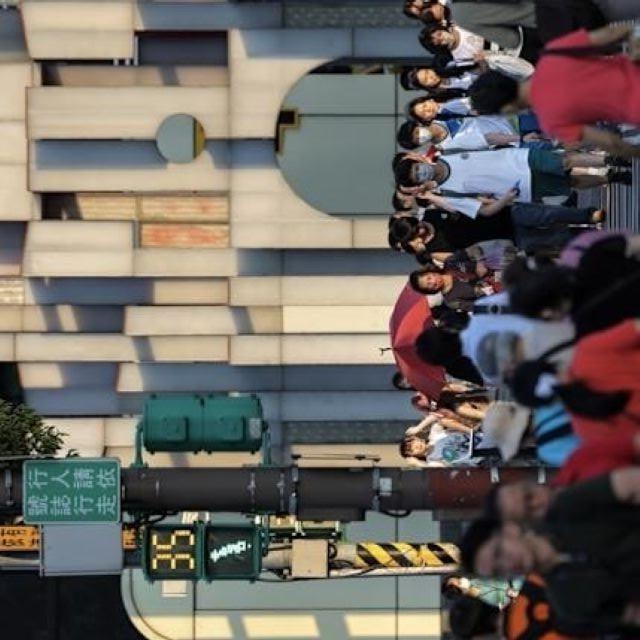green_light: (143, 524, 261, 577)
